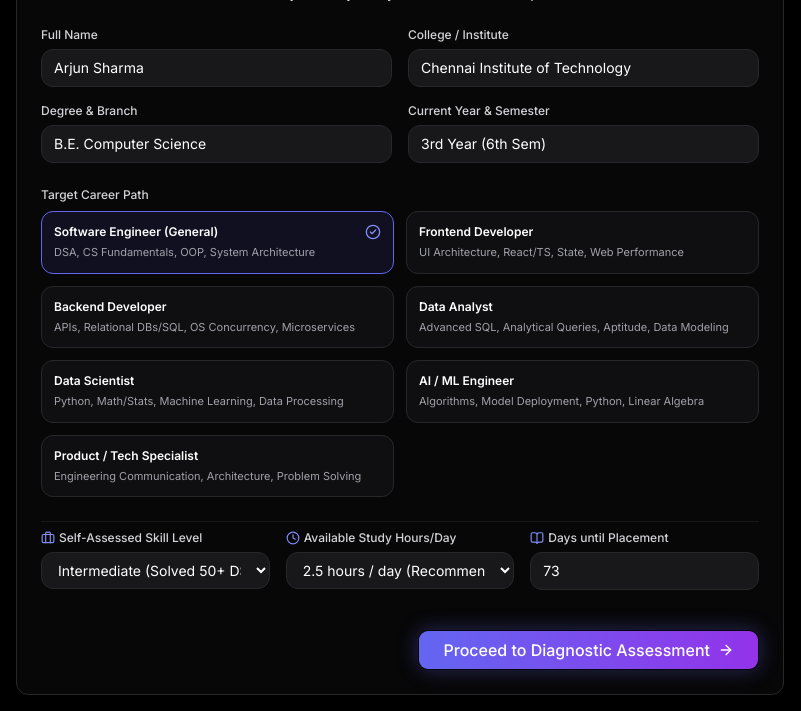
Test: OnboardingFlow - Core User Personalization Journey › supports selecting option, checking answer, and progressing to next question
The width and height of the screenshot is (801, 711).
(page scrolled)
# Move to step 2
Click the button "Proceed to Diagnostic Assessment" at {"x": 589, "y": 650}, box [418,630,759,670]
(page scrolled)
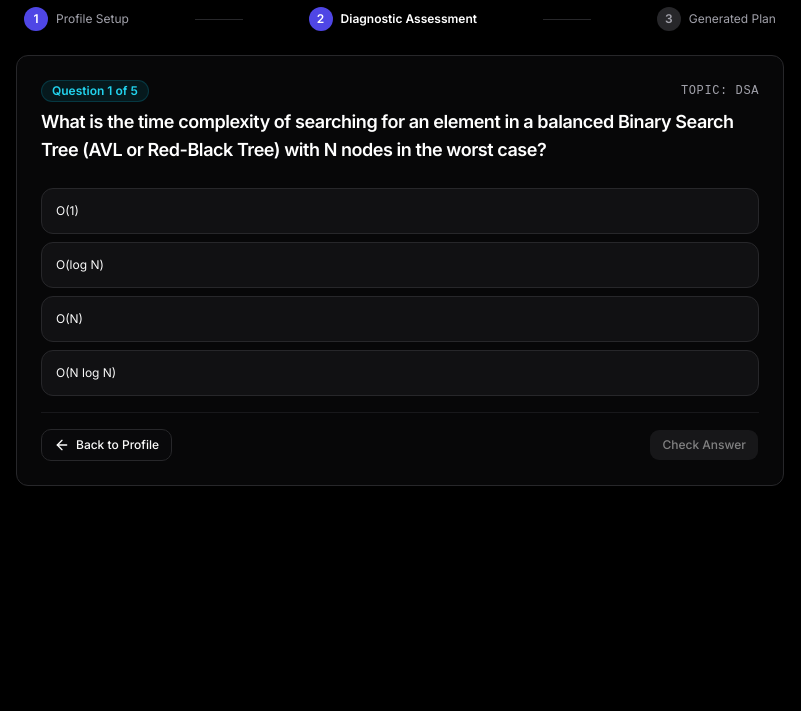
Now the button "O(1)" is shown
Click the button "O(1)" at {"x": 67, "y": 210}, box [41,188,759,234]
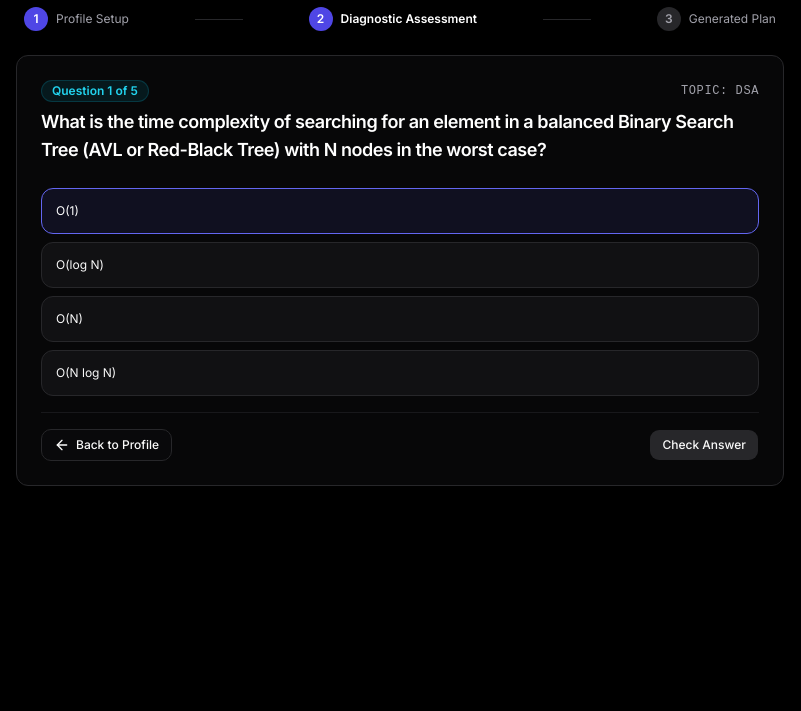
Now the button "Check Answer" is enabled
Click the button "Check Answer" at {"x": 704, "y": 445}, box [650,429,759,461]
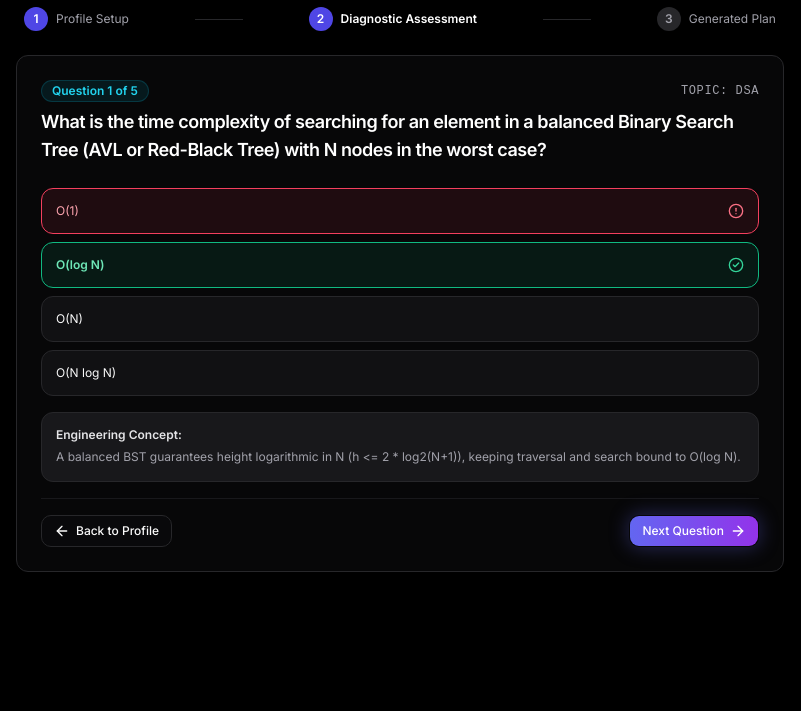
Now the text "Engineering Concept:" is shown, box [56,427,182,442]
Now the button "Next Question" is shown
Click the button "Next Question" at {"x": 694, "y": 530}, box [629,514,759,546]
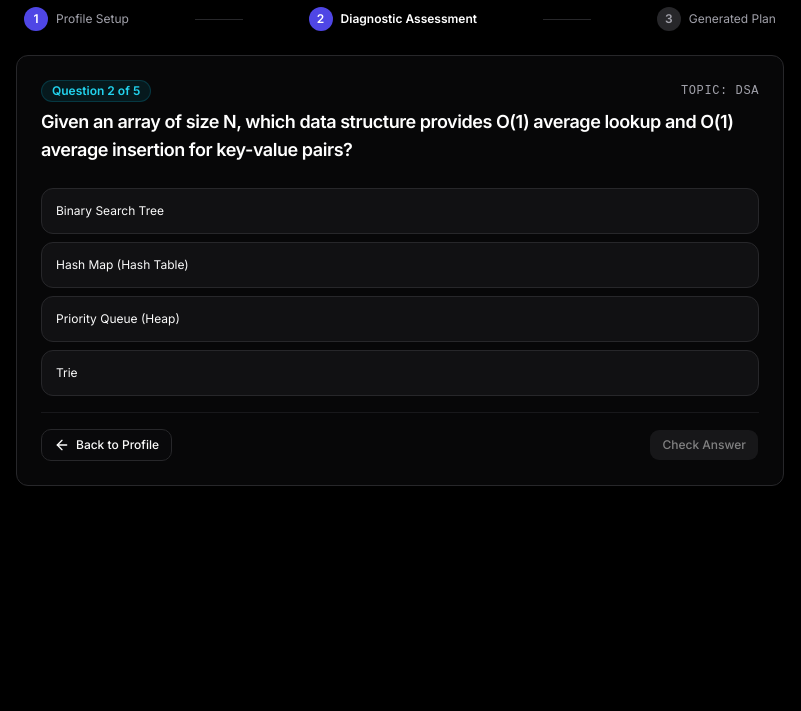
Now the text "Question 2 of 5" is shown, box [41,80,151,102]
